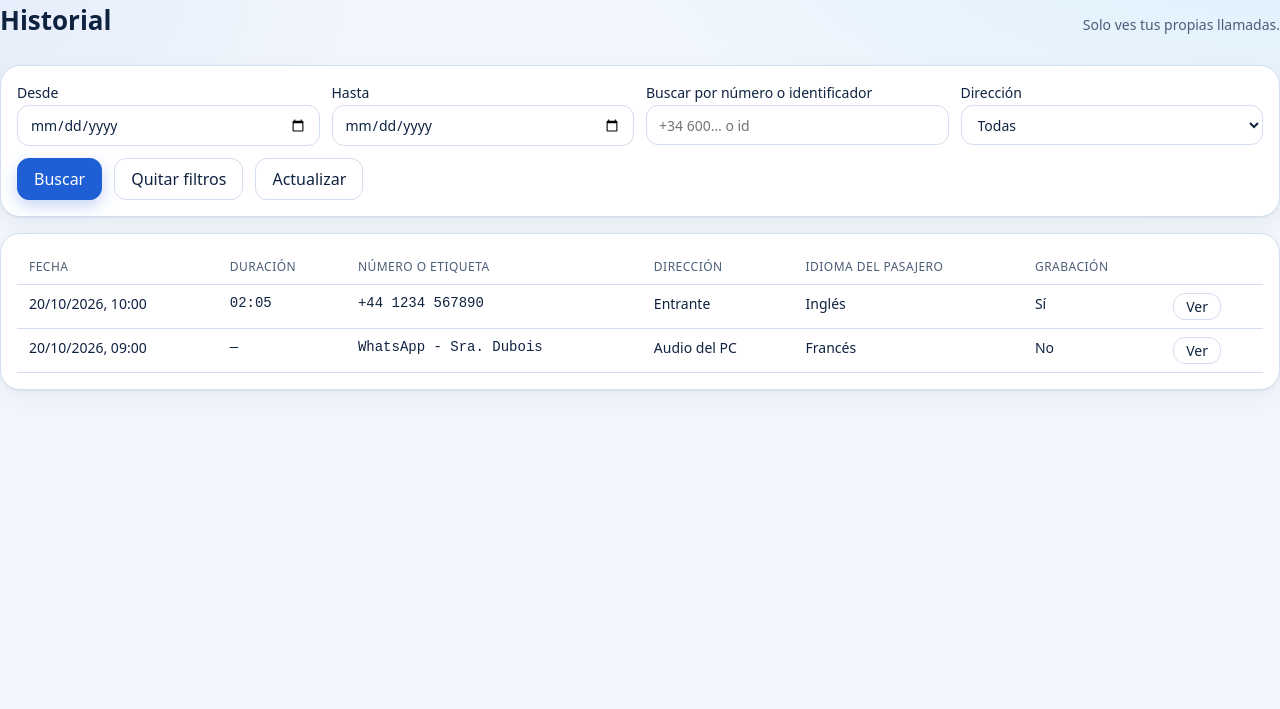
it: <HistoryPage> › opens the detail with the transcript in two columns and the audio of the chosen leg
The width and height of the screenshot is (1280, 709).
Later steps or results of the test are not shown.
Click the button "Ver" in the row of "20/10/2026, 10:00": coordinates (1197, 306) [1173,293,1221,320]
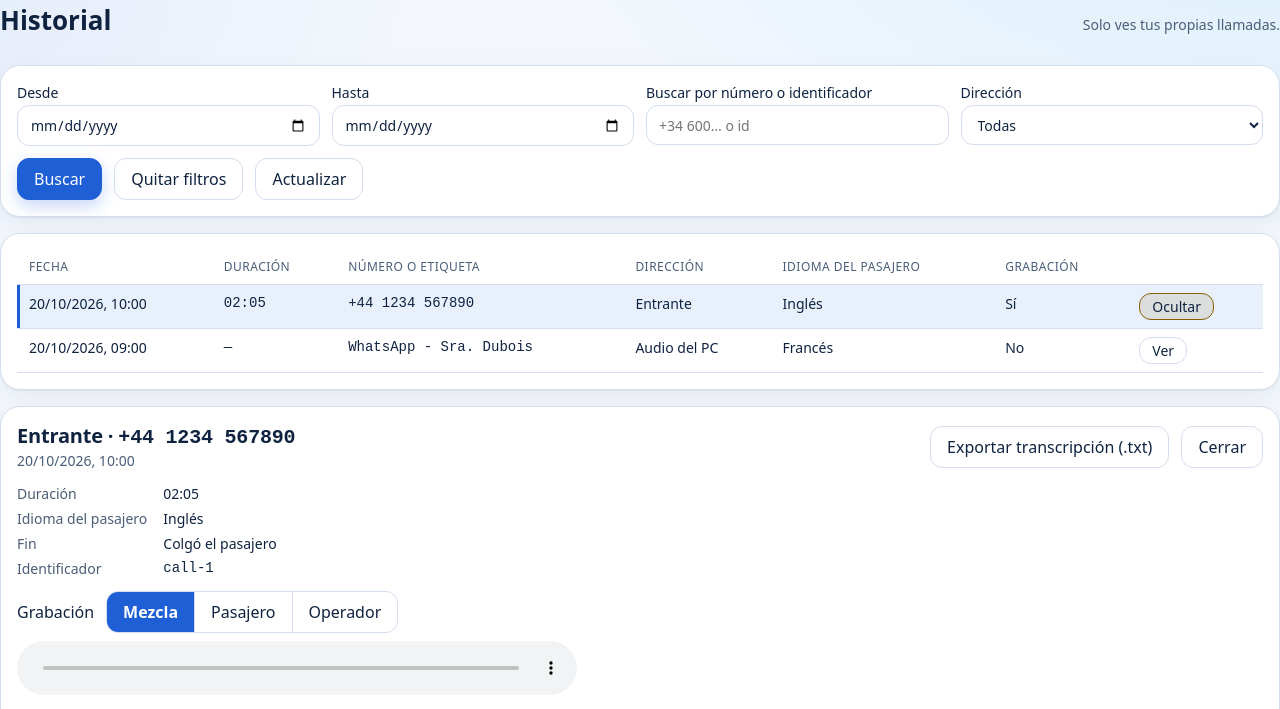
Check: the element with test id "call-detail" shows "02:05", box [163,484,199,503]
Check: the element with test id "call-detail" shows "Colgó el pasajero", box [163,534,277,553]
